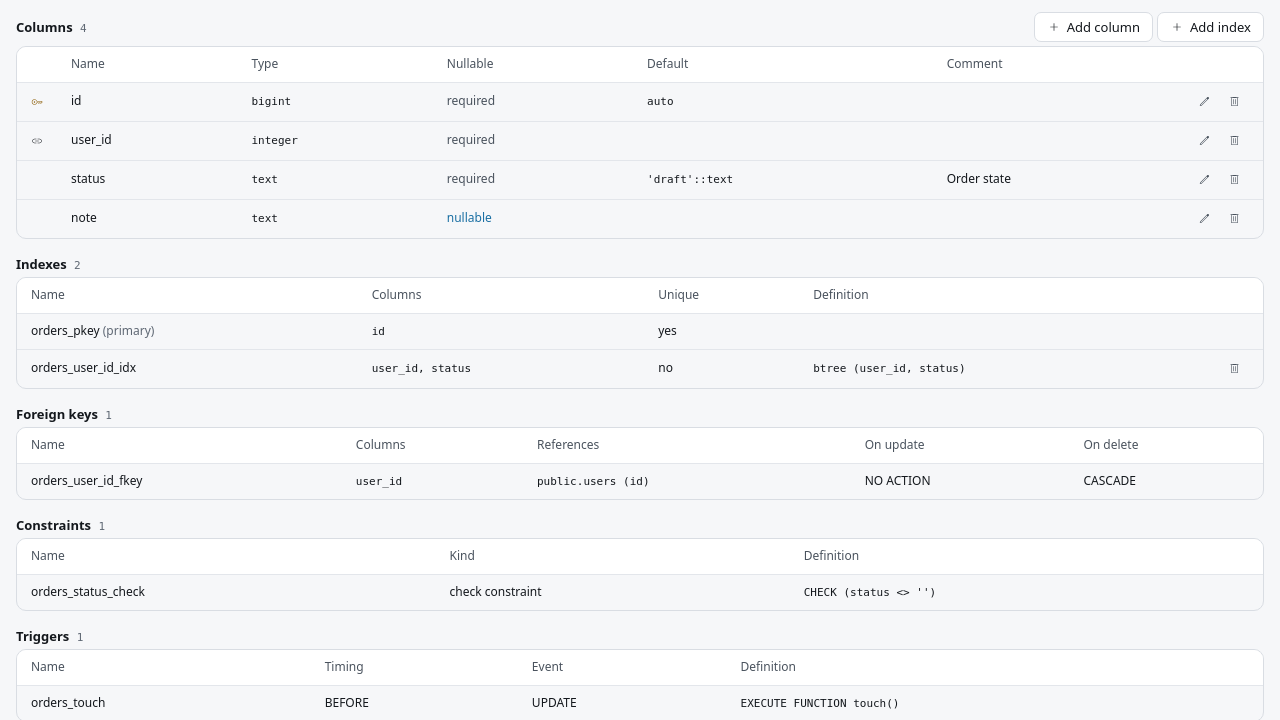
Test: StructureView › cancels the column dialog without staging anything
Click the button "Add column" at (1093, 27), box [1034,12,1153,42]
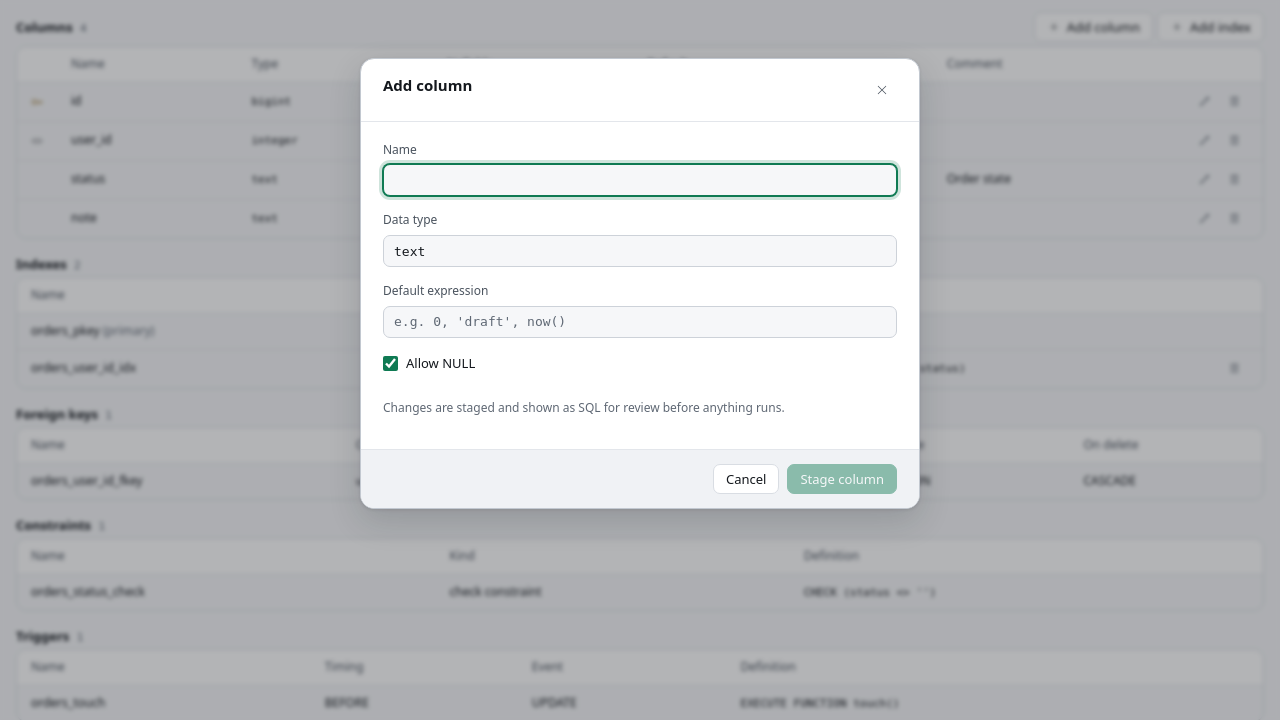
Type "total" into the field labelled "Name" at (640, 180), box [383,164,897,196]
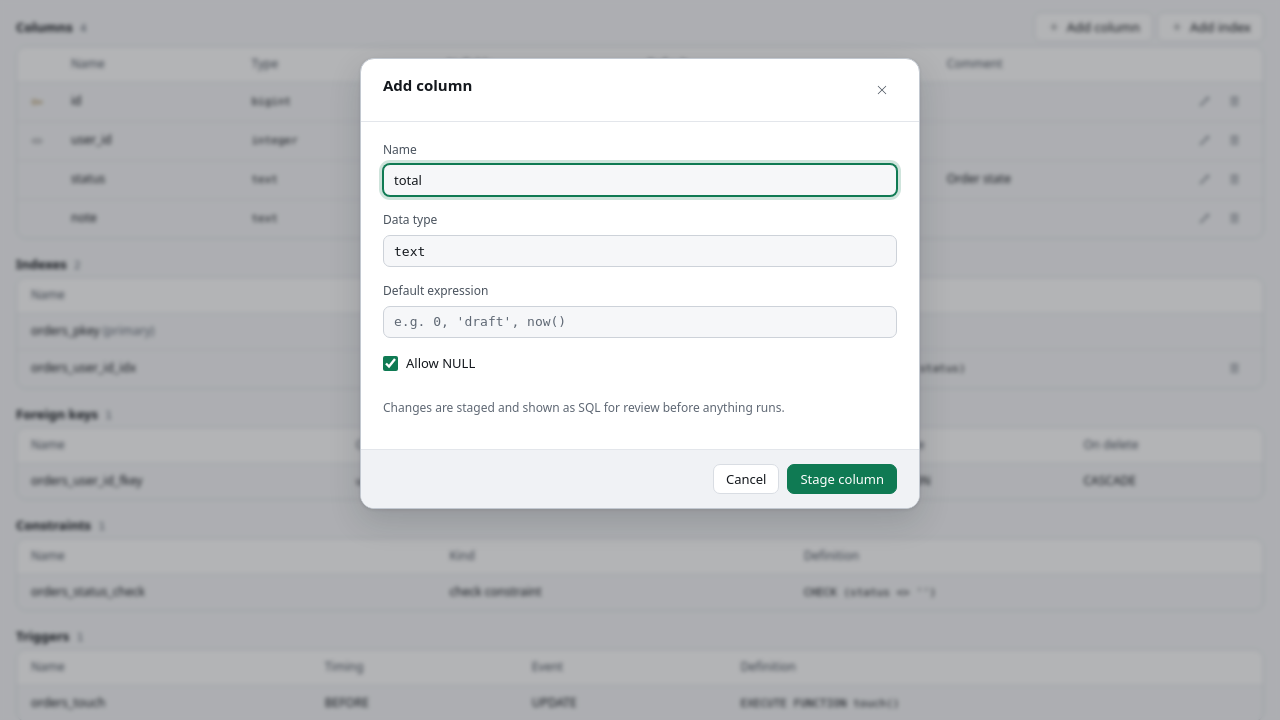
Click the button "Cancel" at (746, 479), box [713,464,780,494]
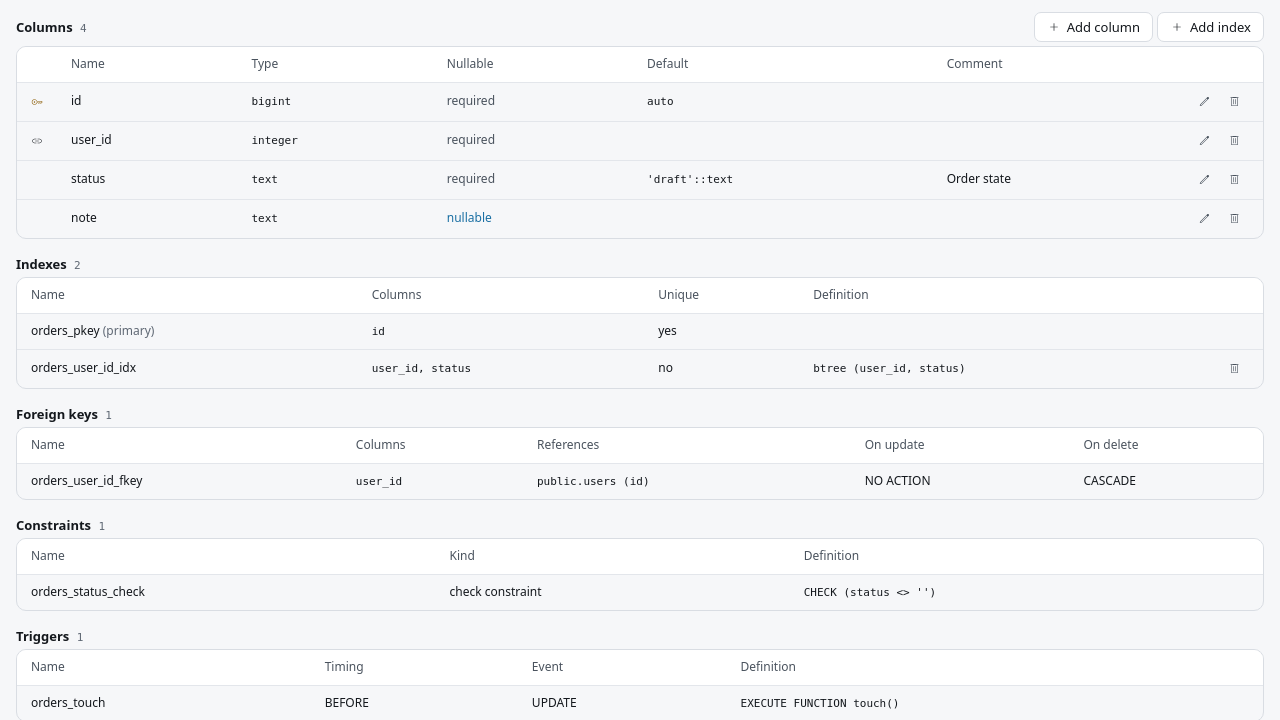
Now the dialog is gone
